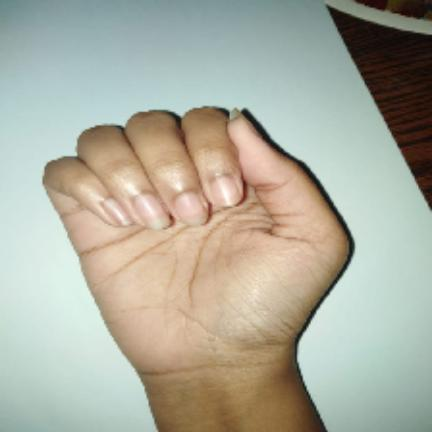Nail: (135, 194, 170, 230), (176, 192, 207, 226), (210, 175, 242, 207), (103, 199, 132, 226)
